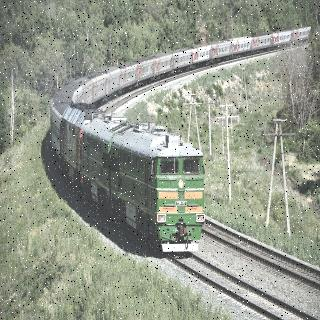poezd: (69, 104, 202, 249)
